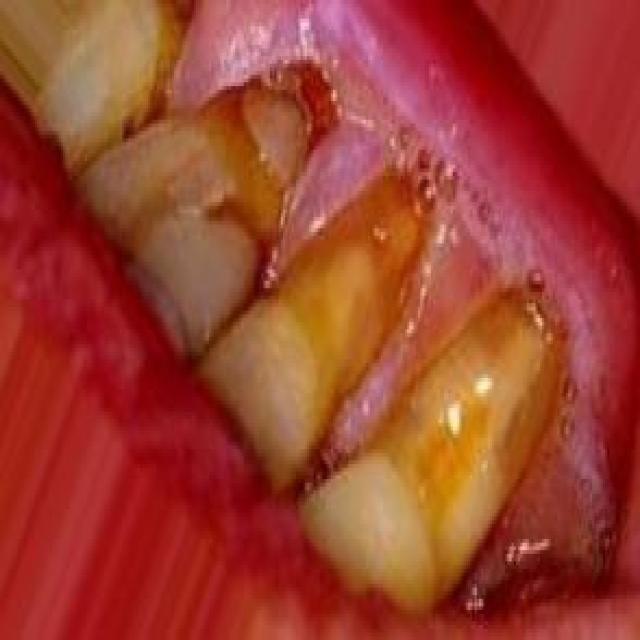caries: (188, 58, 343, 244)
